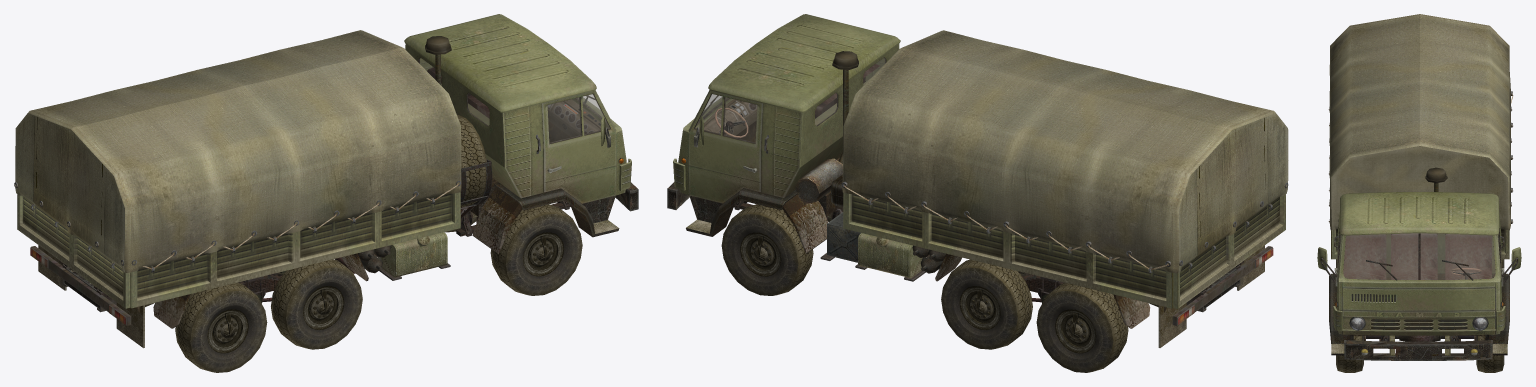
File: kamaz-4310.glb
3 renders of one model, left to right at view 1: azimuth 30°, elevation 25°; view 2: azimuth 150°, elevation 25°; view 3: azimuth 270°, elevation 25°, orthographic. The views are drawn at different scales.
Parts seen in each view (by area): view 1: cargohold, hull.001, wheel5, wheel6, wheel4, hatch2.001, glass3, gear, glass1; view 2: cargohold, hull.001, wheel2, wheel3, wheel.001, hatch.001, glass2, glass1; view 3: cargohold, hull.001, glass1, wheel.001, wheel4, hatch.001, hatch2.001, lens.
Part boxes in pixels (x1,y1,x2,y2): cargohold: (14,30,461,272); hull.001: (17,14,638,348); wheel5: (271,259,362,349); wheel6: (175,282,267,372); wheel4: (490,204,582,295); hatch2.001: (541,91,616,203); glass3: (548,94,610,143); gear: (457,115,486,207); glass1: (419,58,605,125); cargohold: (841,30,1288,273); hull.001: (667,14,1285,347); wheel2: (941,259,1032,349); wheel3: (1036,283,1128,372); wheel.001: (721,204,813,295); hatch.001: (688,90,763,203); glass2: (695,94,756,142); glass1: (699,58,885,125); cargohold: (1328,14,1513,230); hull.001: (1329,167,1509,360); glass1: (1343,233,1495,279); wheel.001: (1476,335,1504,372); wheel4: (1336,335,1363,372); hatch.001: (1498,226,1521,308); hatch2.001: (1317,226,1340,308); lens: (1350,317,1487,330).
Bounding box in the file's own units: 7.53 × 3.21 × 3.12.
Materials: 3 (3 with a texture image).
